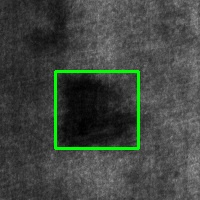patches: (55, 71, 138, 148)
